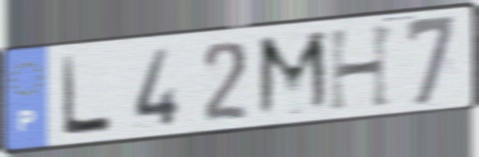2: (201, 38, 250, 125)
4: (130, 45, 183, 129)
7: (403, 11, 459, 110)
H: (326, 21, 399, 115)
L: (58, 53, 115, 140)
M: (254, 27, 334, 121)
